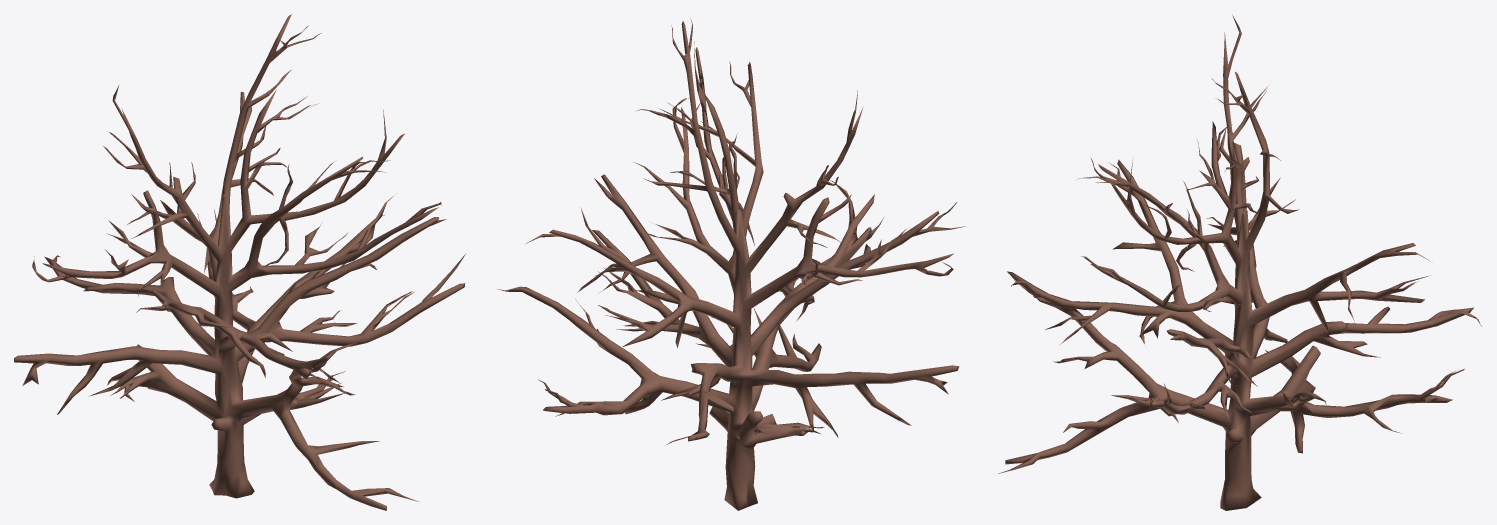
File: dead_tree_a.FBX
3 views of the same model, side by side, from view 1: azimuth 30°, elevation 25°; view 2: azimuth 150°, elevation 25°; view 3: azimuth 270°, elevation 25° (orthographic).
Parts seen in each view (by area): view 1: Group59935_LOD0; view 2: Group59935_LOD0; view 3: Group59935_LOD0.
Part boxes in pixels (<box>): Group59935_LOD0: <box>14,14,465,510</box>; Group59935_LOD0: <box>497,18,965,510</box>; Group59935_LOD0: <box>998,15,1481,510</box>.
Size of what is drawn, in the model's own units: 1538 by 1629 by 1563.
